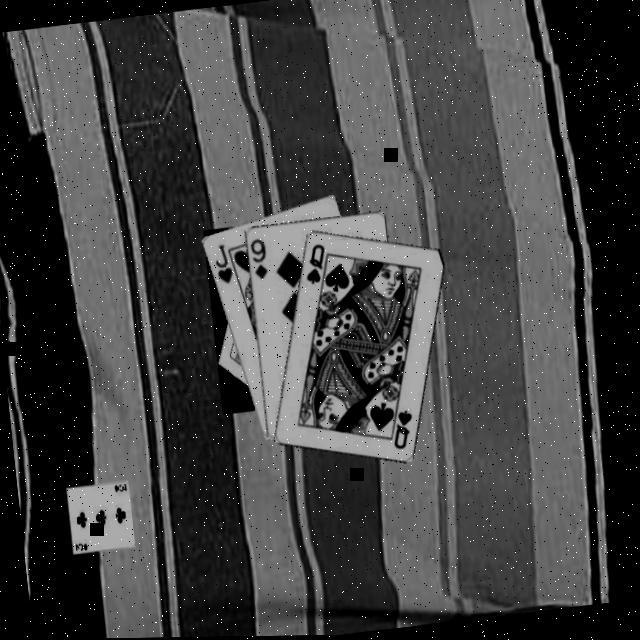9D: (245, 237, 269, 285)
JH: (208, 243, 234, 290)
QS: (298, 243, 328, 289), (385, 410, 415, 456)
